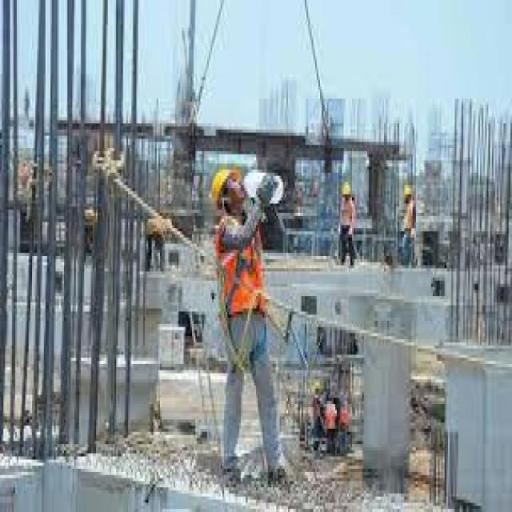helmet: (205, 157, 246, 213), (256, 166, 288, 216), (338, 176, 354, 204), (401, 178, 416, 204)
vest: (209, 207, 274, 336)
